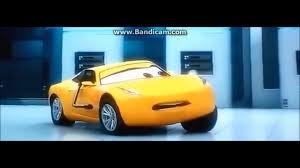car: (46, 58, 217, 131)
